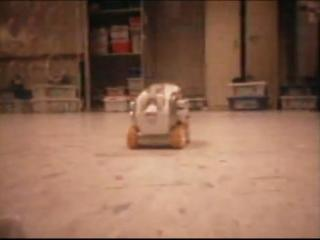cozmo: (125, 82, 191, 150)
